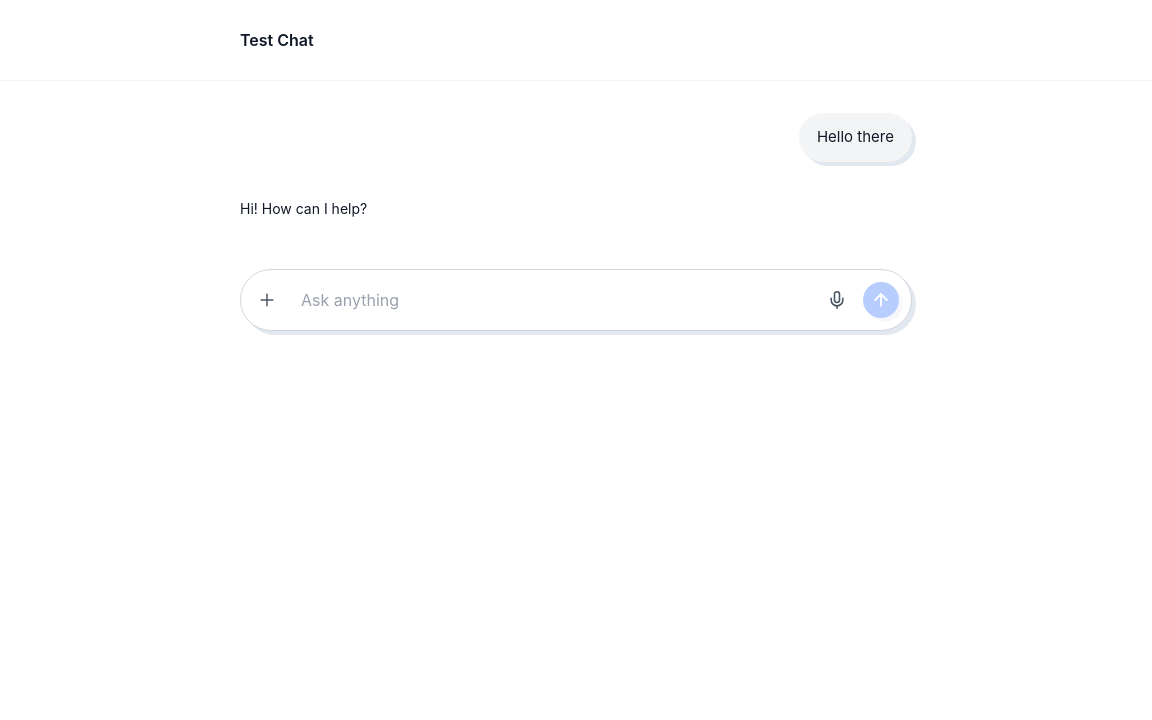
ChatArea › Anhang-Plus-Menü › schließt das Menü beim Klick außerhalb
The image size is (1152, 720).
Click the button with test id "attach-plus-button": x=267, y=300 249,282 -> 285,318
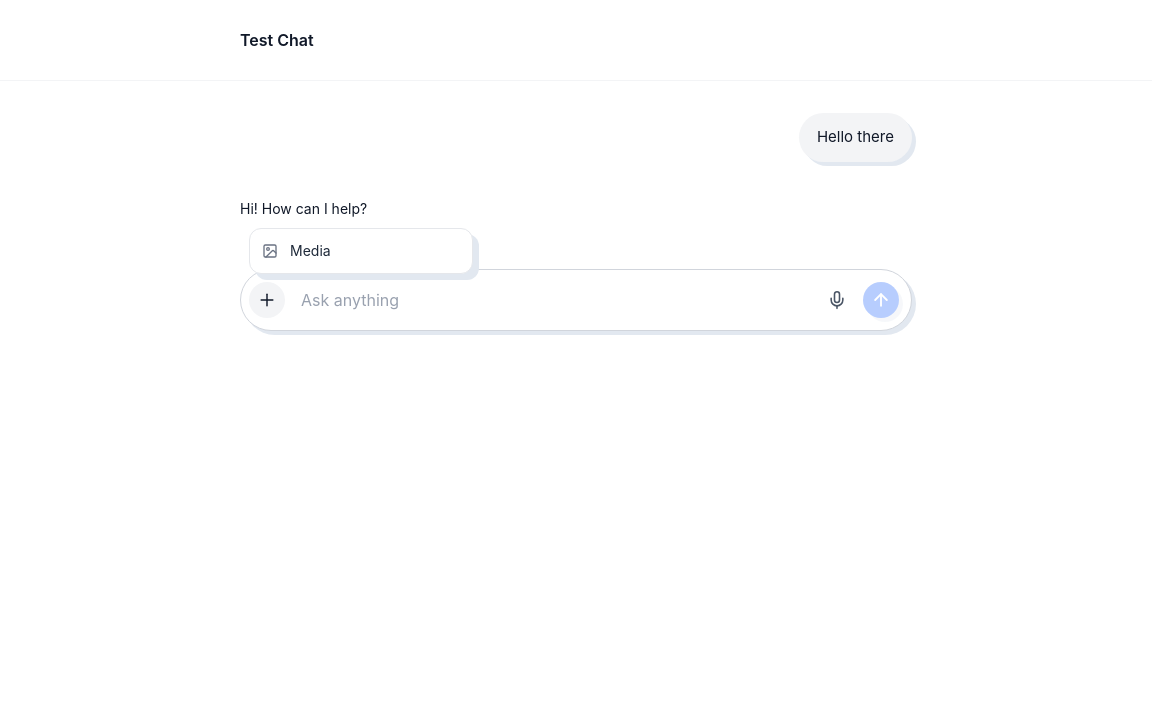
Expected: the menu with test id "attach-menu" is shown, 249,228 -> 473,274
Press the mouse on the element showing "Test Chat Hello there Hi! How can I help? Media Ask anything": x=576, y=360 0,0 -> 1151,719
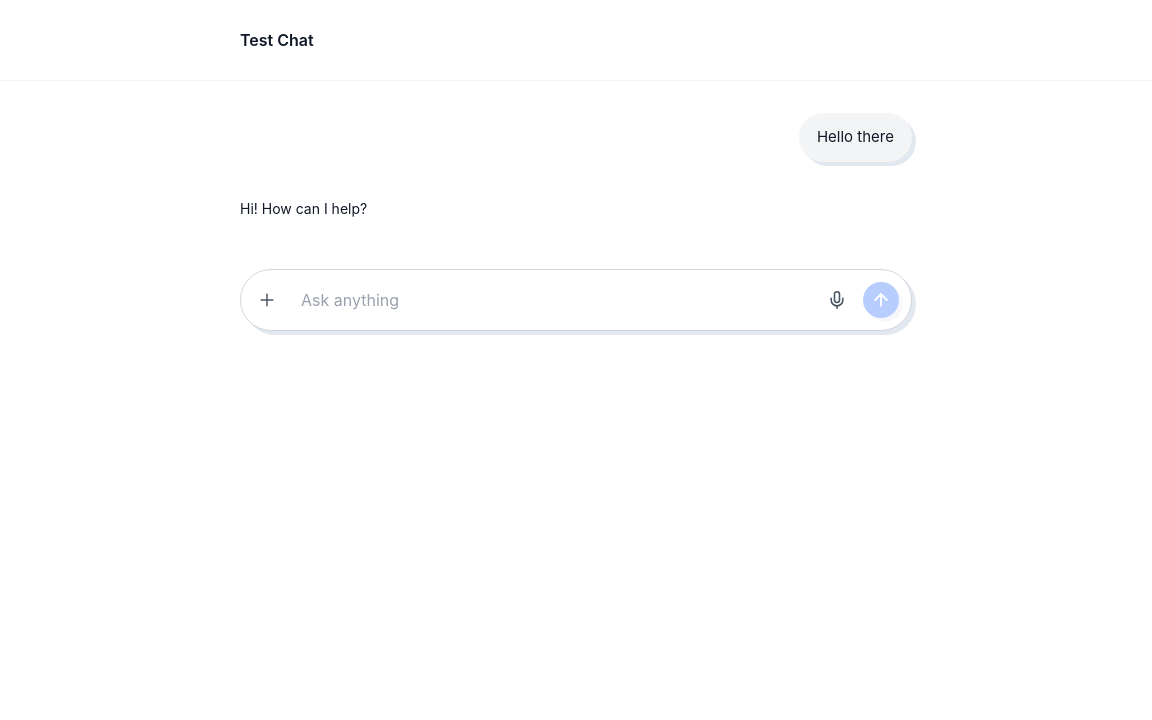
Expected: the menu with test id "attach-menu" is gone
